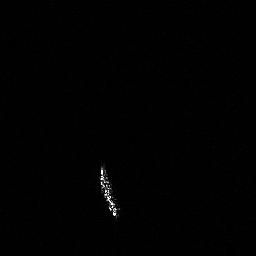ship: (95, 162, 123, 220)
